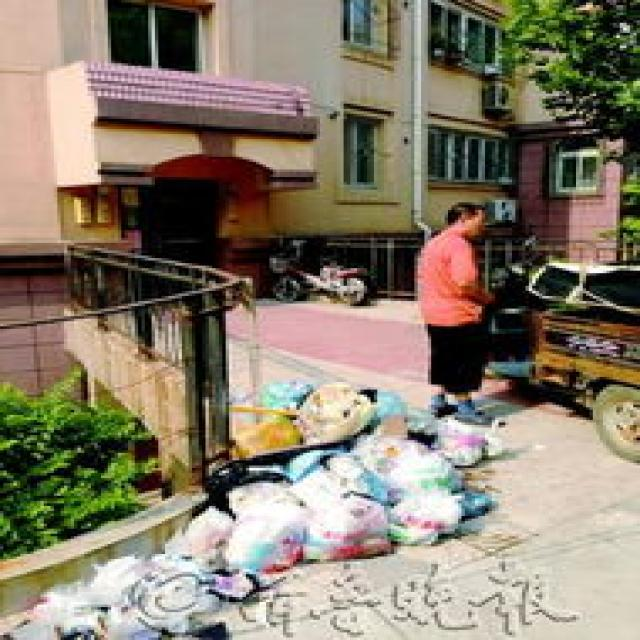garbage: (0, 380, 485, 638)
